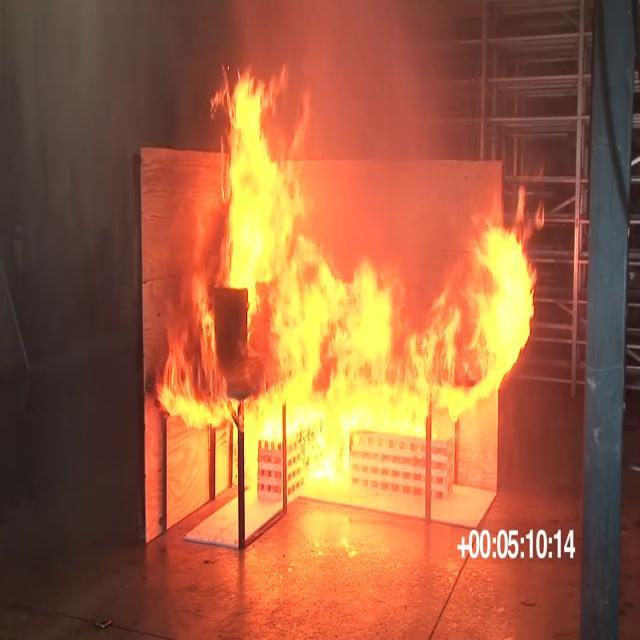Fire: (156, 62, 544, 493)
